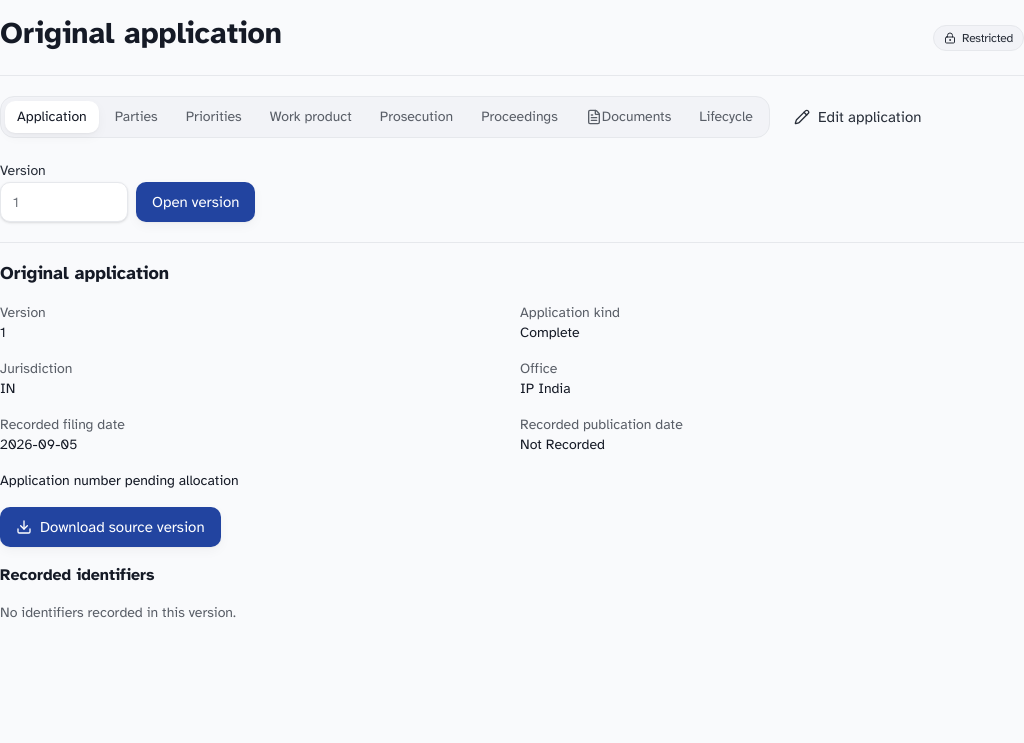
Test: Independent patent application journeys › keeps source discovery failure visible and disables saving
Click the button "Edit application" at (858, 117), box [778,97,937,137]
(page scrolled)
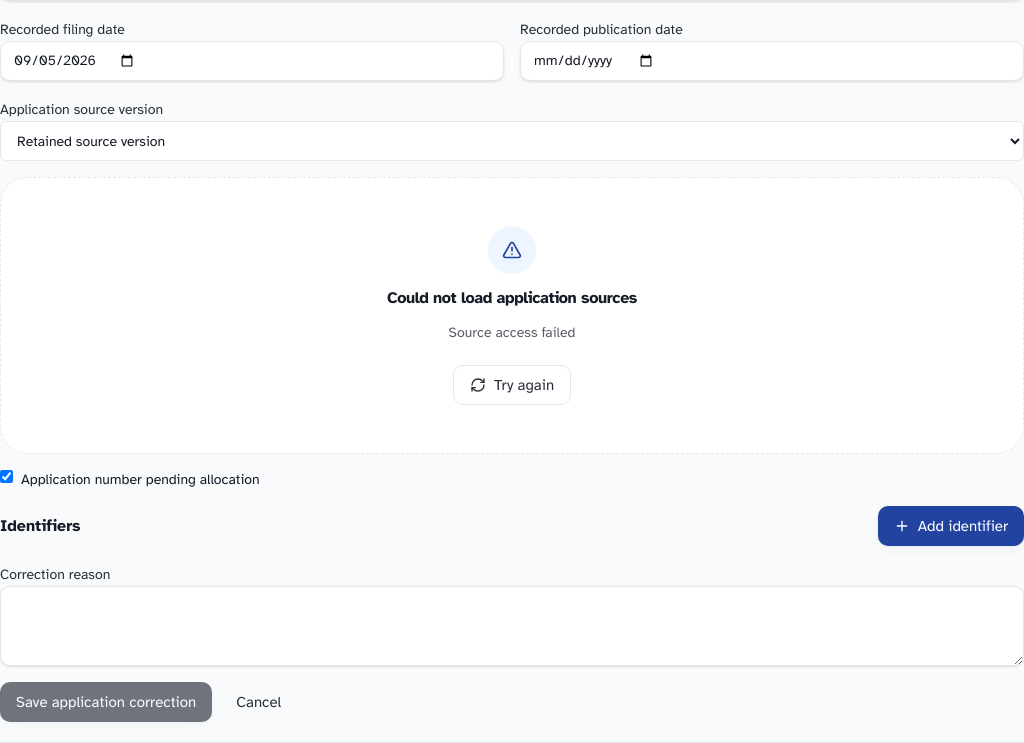
Now the heading "Could not load application sources" is shown, box [387,286,637,310]
Now the text "Source access failed" is shown, box [449,322,575,345]
Now the button "Save application correction" is disabled, box [0,682,212,722]
